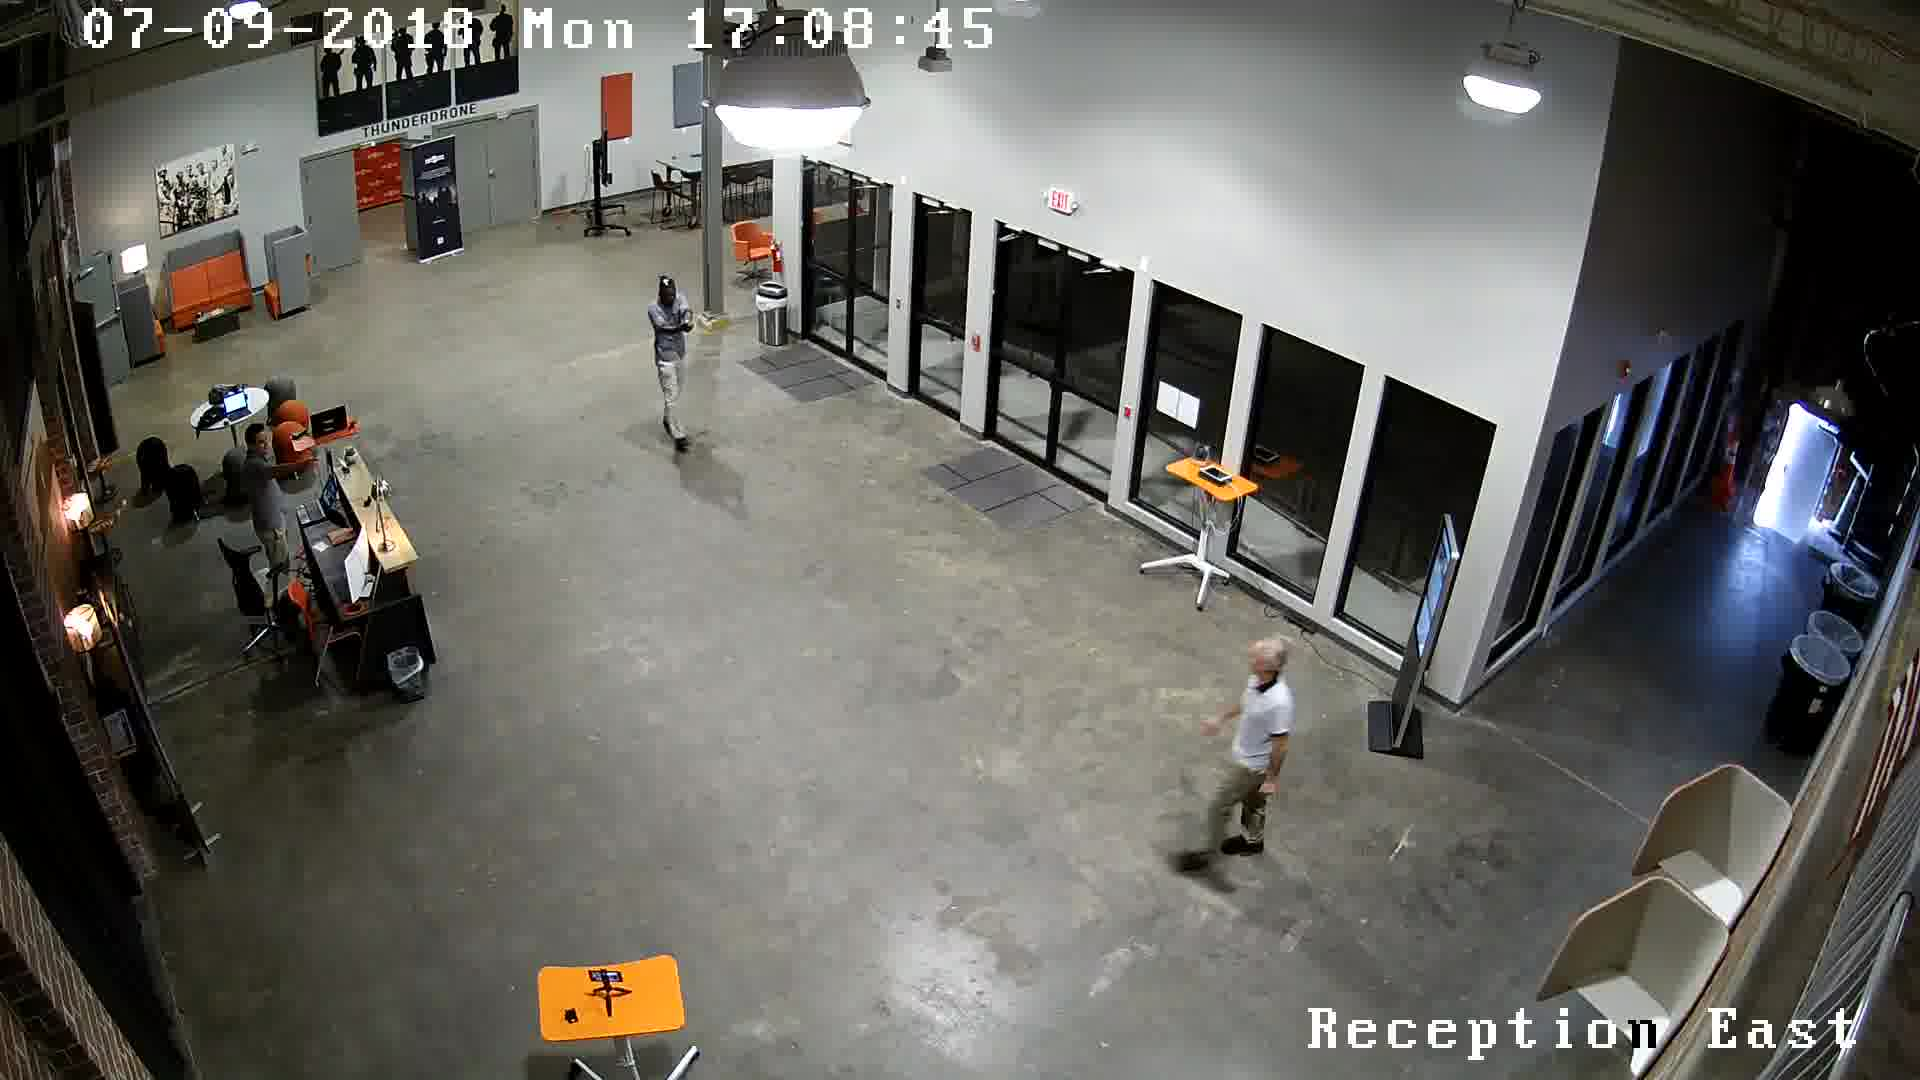pistol: (666, 303, 703, 343)
